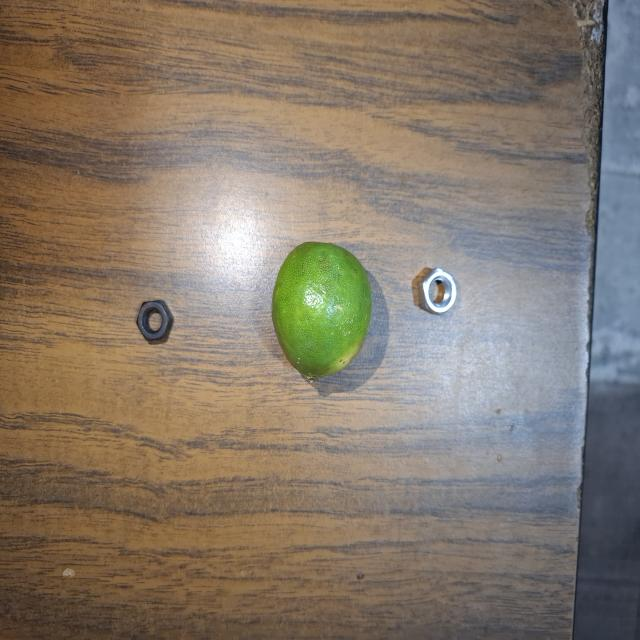limon: (268, 239, 381, 393)
milimetrico: (132, 292, 189, 361)
tuerca: (409, 256, 469, 327)
